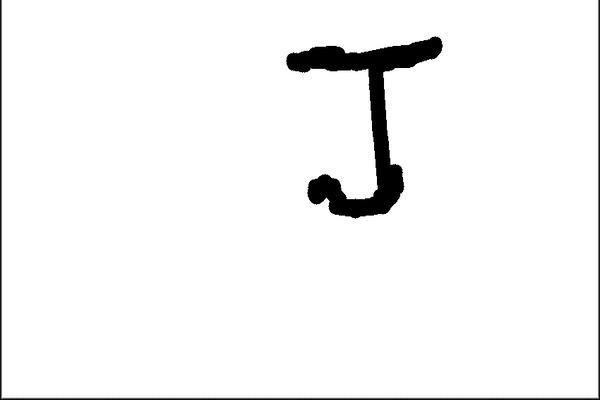J: (277, 34, 450, 224)
